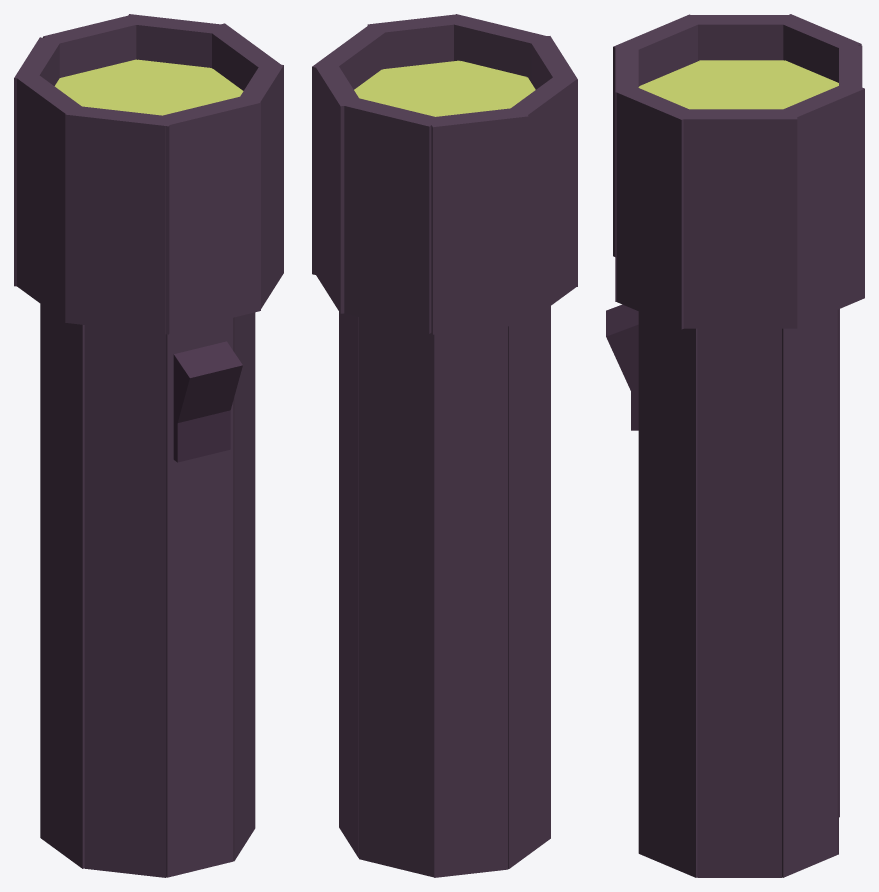
3 views of the same model, side by side, from view 1: azimuth 30°, elevation 25°; view 2: azimuth 150°, elevation 25°; view 3: azimuth 270°, elevation 25° (orthographic).
Visible parts, largest first — view 1: cube (×19); view 2: cube (×19); view 3: cube (×20).
Boxes of the visible parts, left/top/right/bottom form: cube (×19): left=14, top=14, right=283, bottom=877; cube (×19): left=312, top=14, right=577, bottom=877; cube (×20): left=606, top=14, right=864, bottom=877.
Size of the model in its own units: 0.2033 by 0.6875 by 0.2099.
1 material, 1 textured.
